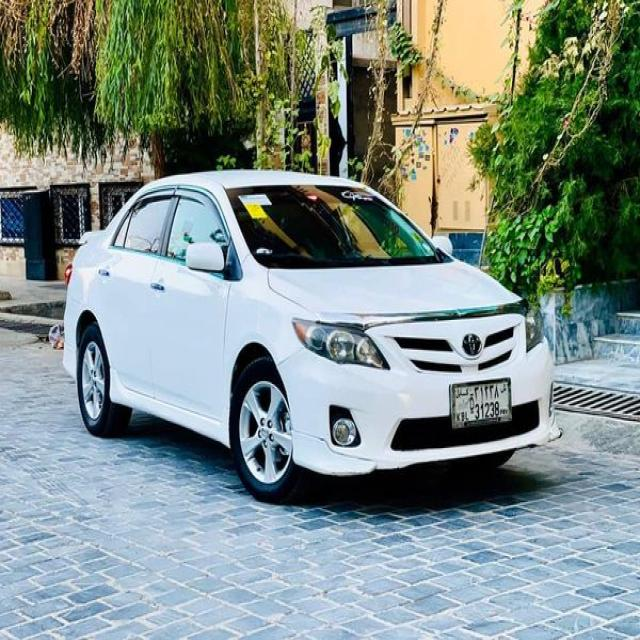Plate: (451, 378, 512, 429)
